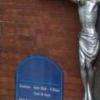Statue: (55, 2, 100, 74)
